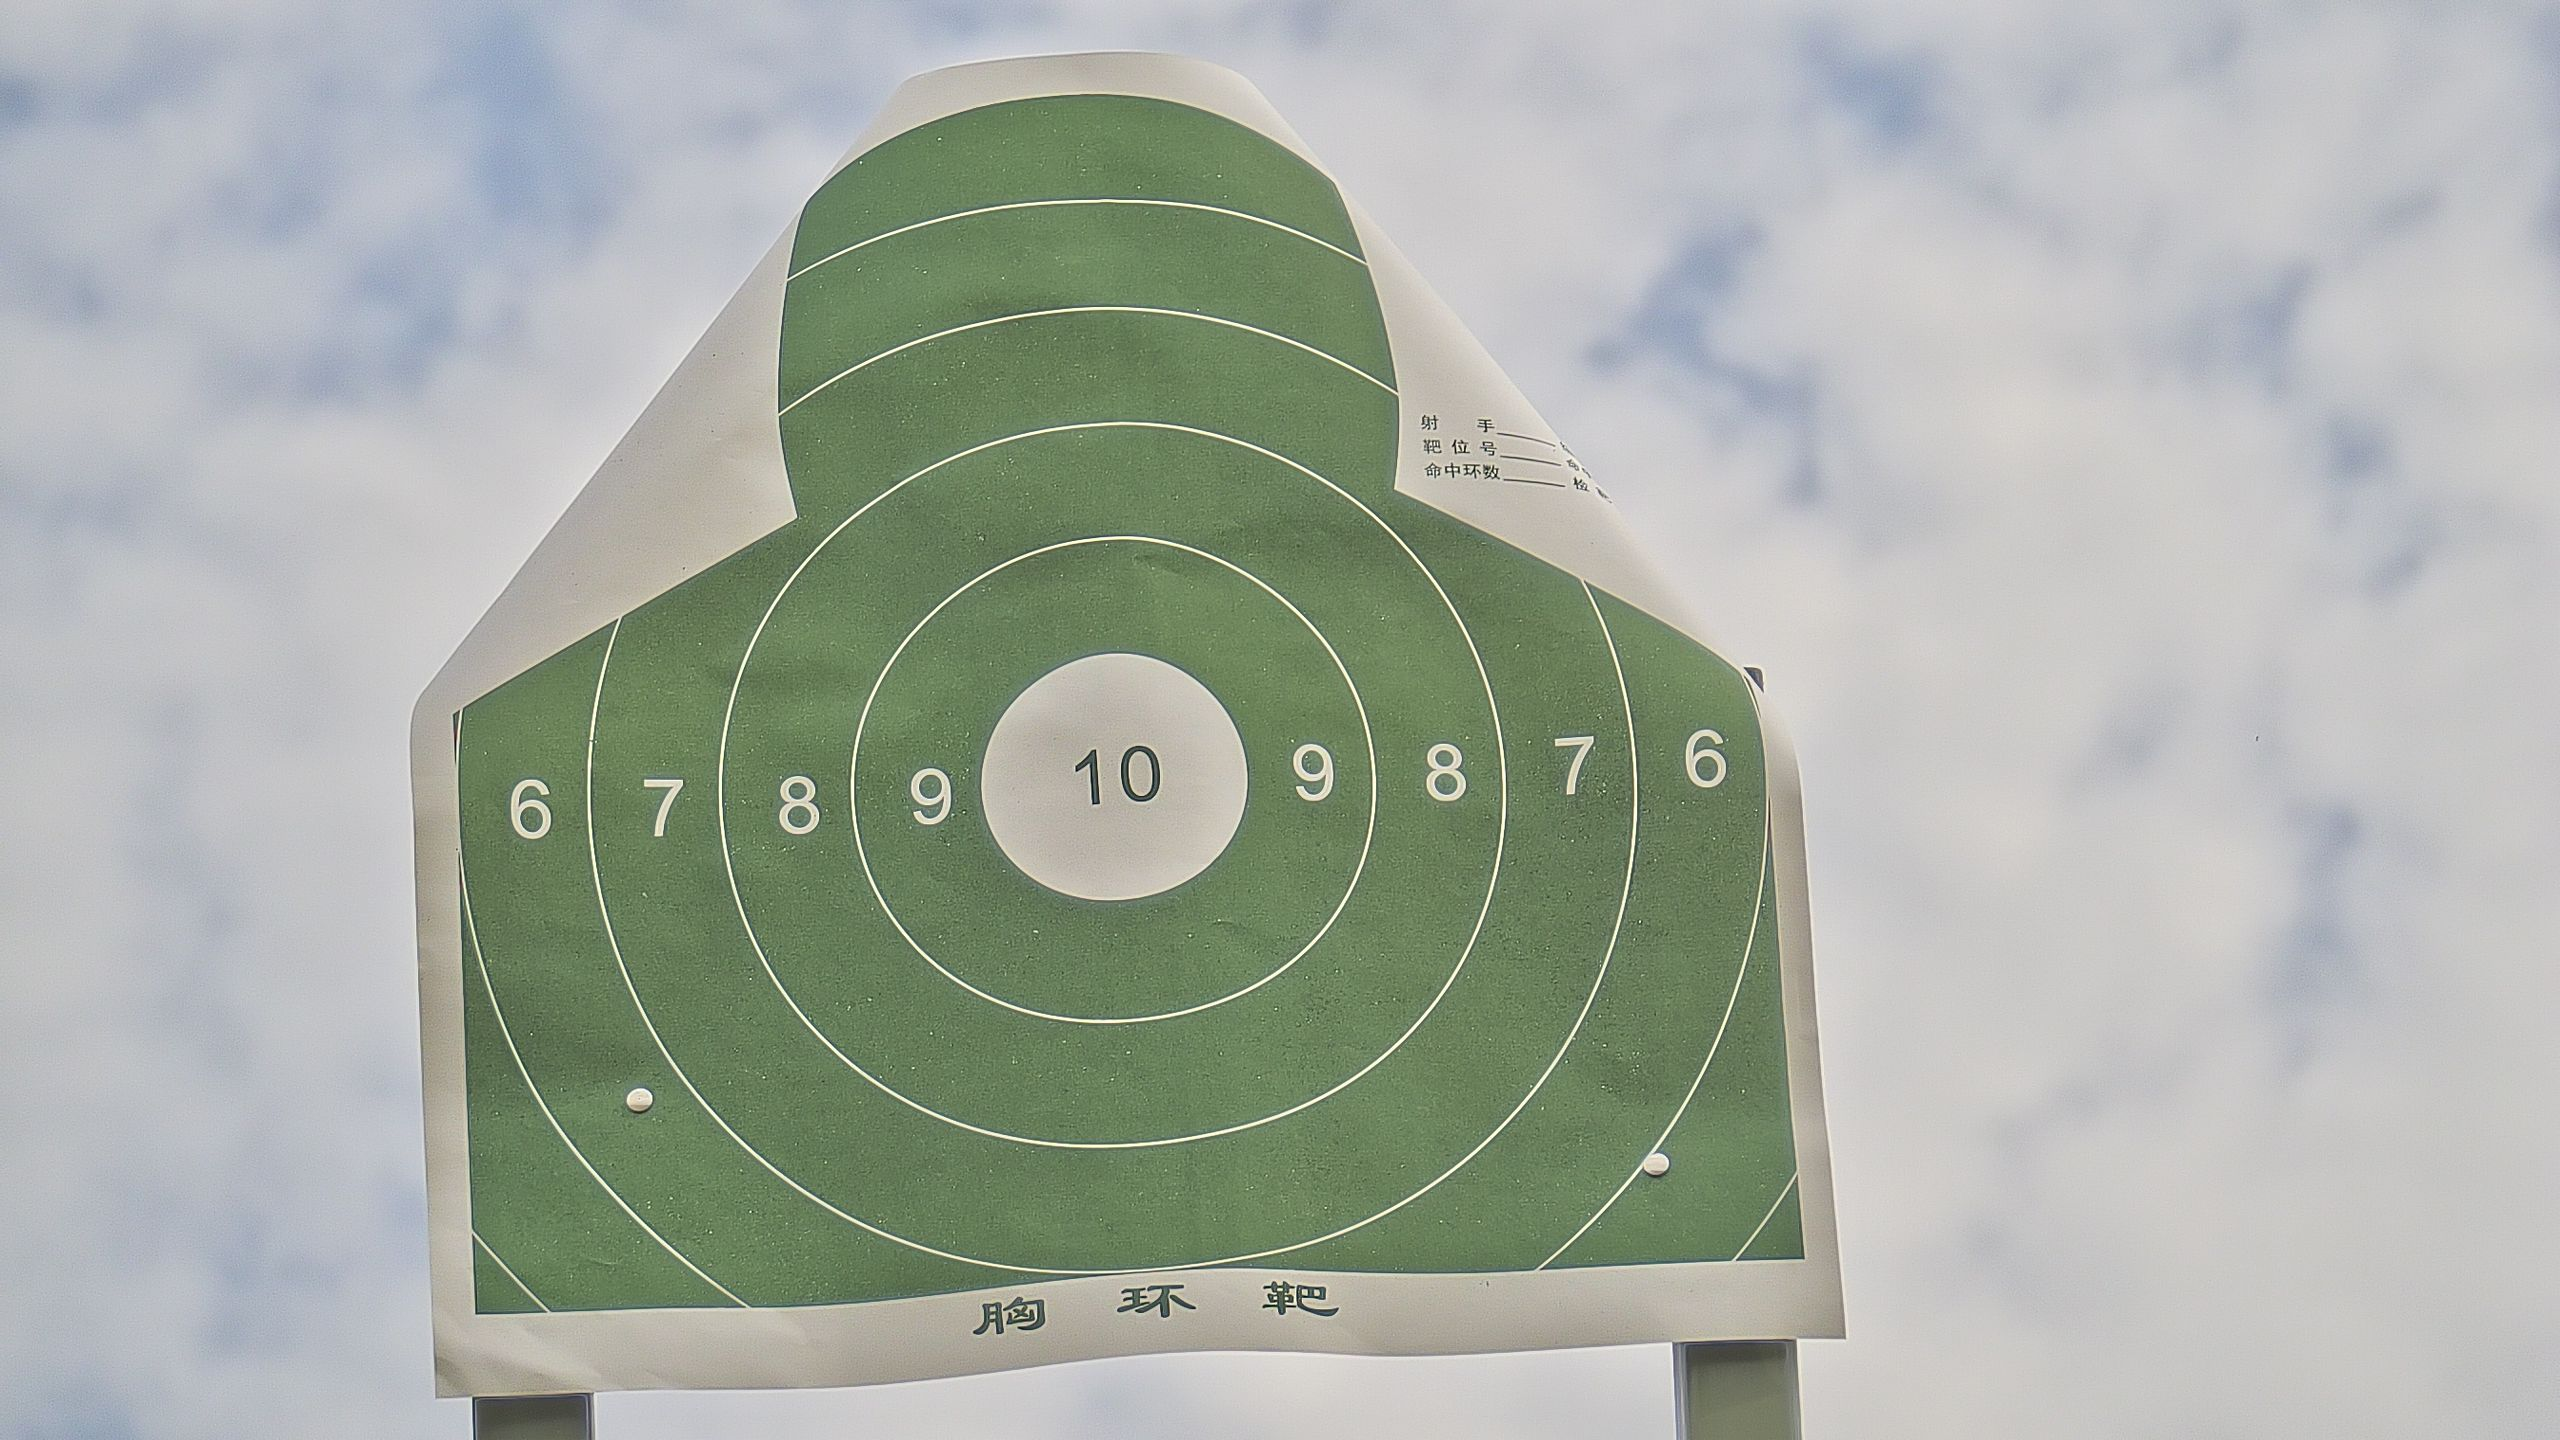target: (455, 100, 1806, 1319)
ten: (976, 651, 1254, 907)
